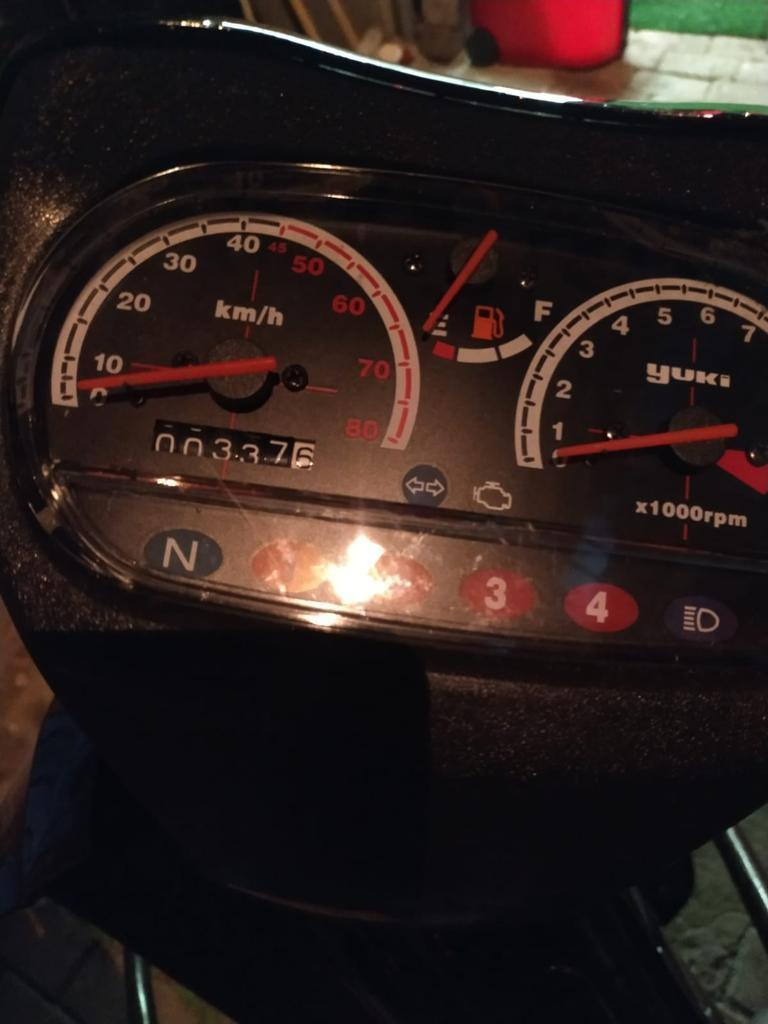0: (154, 432, 175, 456), (182, 437, 202, 460)
3: (211, 437, 231, 461), (239, 443, 259, 465)
6: (295, 446, 313, 469)
7: (269, 439, 288, 464)
odometer: (150, 417, 316, 472)
